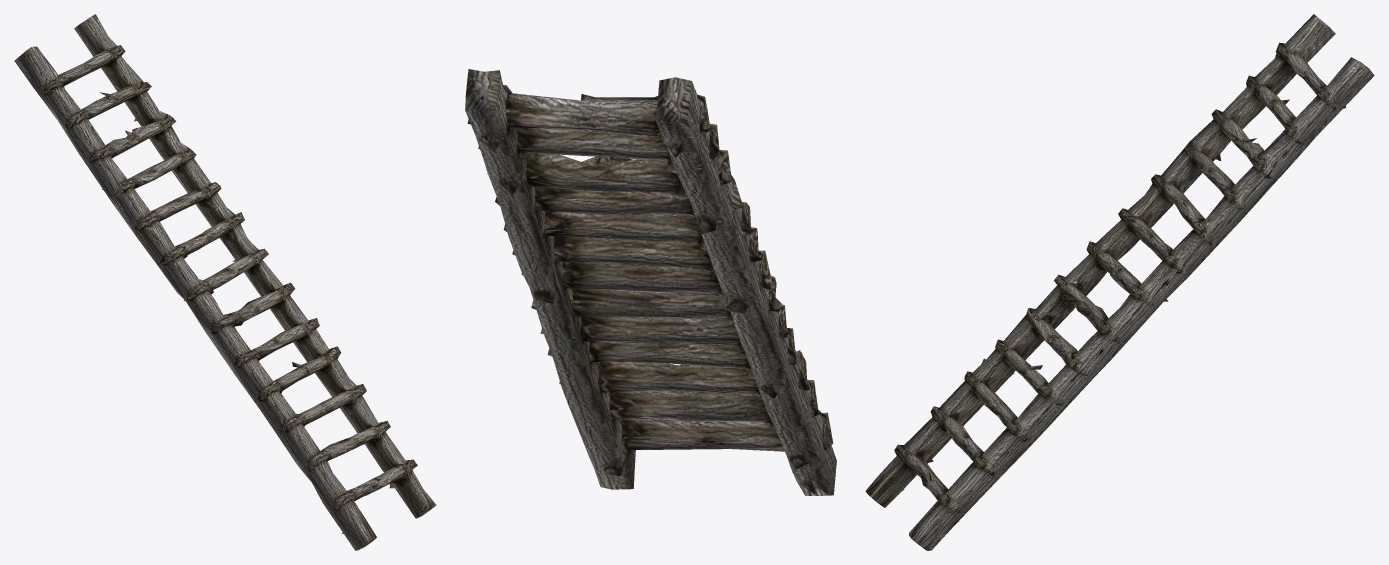
File: bb_ladder.glb
3 views of the same model, side by side, from view 1: azimuth 30°, elevation 25°; view 2: azimuth 150°, elevation 25°; view 3: azimuth 270°, elevation 25° (orthographic). The views are drawn at different scales.
Parts seen in each view (by area): view 1: bb_ladder; view 2: bb_ladder; view 3: bb_ladder.
Boxes of the visible parts, x1,y1,x2,y2 form: bb_ladder: [14, 14, 436, 550]; bb_ladder: [465, 69, 836, 495]; bb_ladder: [865, 14, 1374, 550].
Bounding box in the file's own units: 1.99 × 3.21 × 3.5.
Materials: 1 (1 with a texture image).
